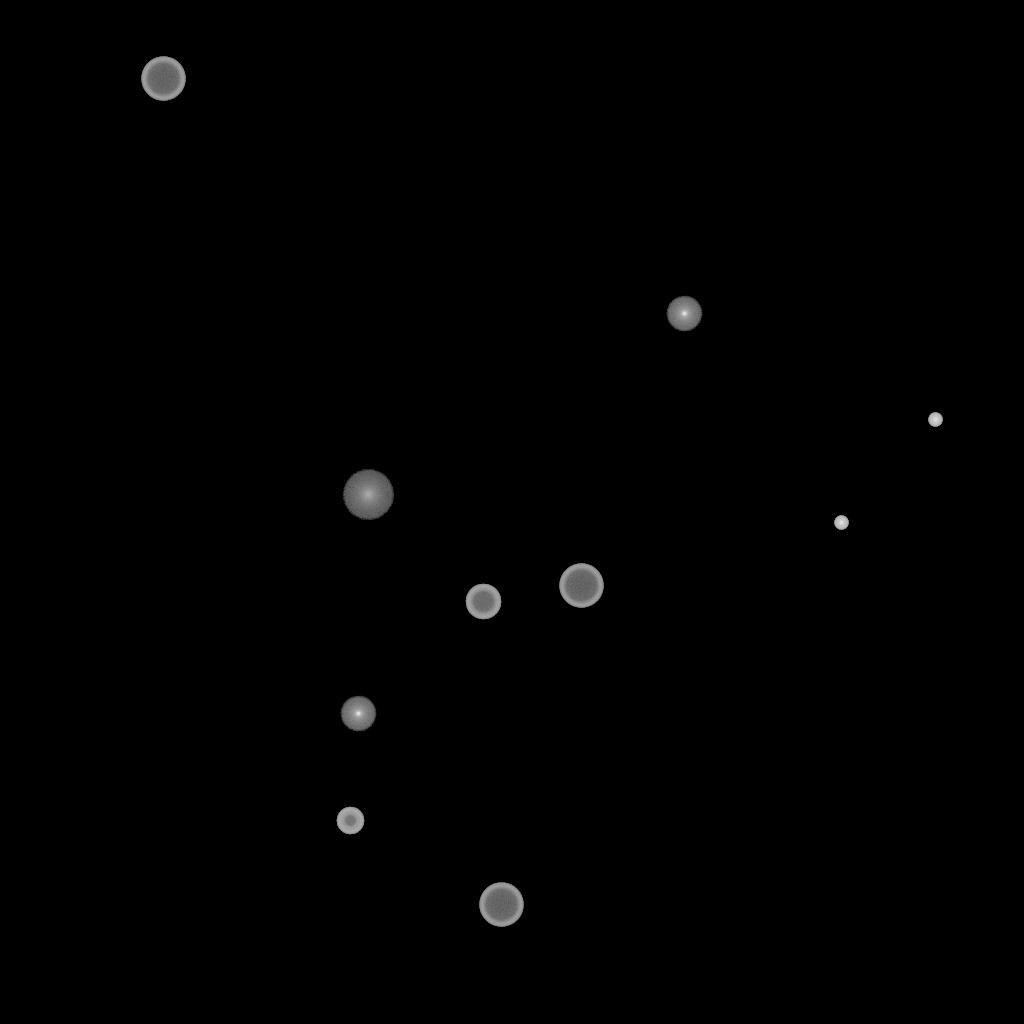depth:-30: (928, 413, 942, 427), (834, 516, 848, 530)
depth:-50: (336, 807, 364, 835)
depth:-60: (465, 584, 501, 620)
depth:-70: (141, 57, 185, 101), (479, 883, 523, 927), (559, 564, 603, 608)
depth:0: (666, 296, 702, 332), (340, 696, 376, 732)
depth:20: (342, 470, 394, 520)
